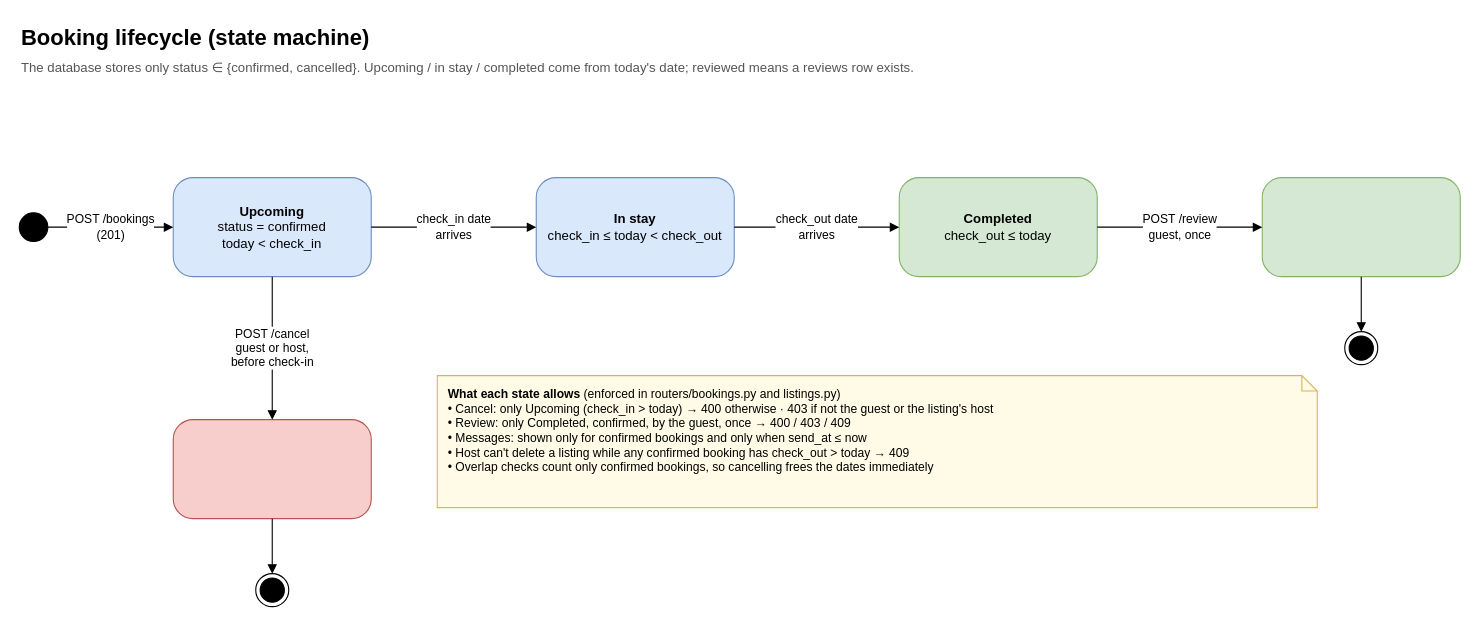
This 1480x626 diagram has some shape labels left out. The centre of each missing label's shape, as x and y in pixels:
Cancelled status = cancelled dates free again: (271,469)
Reviewed reviews row exists (UNIQUE booking_id): (1360,227)
